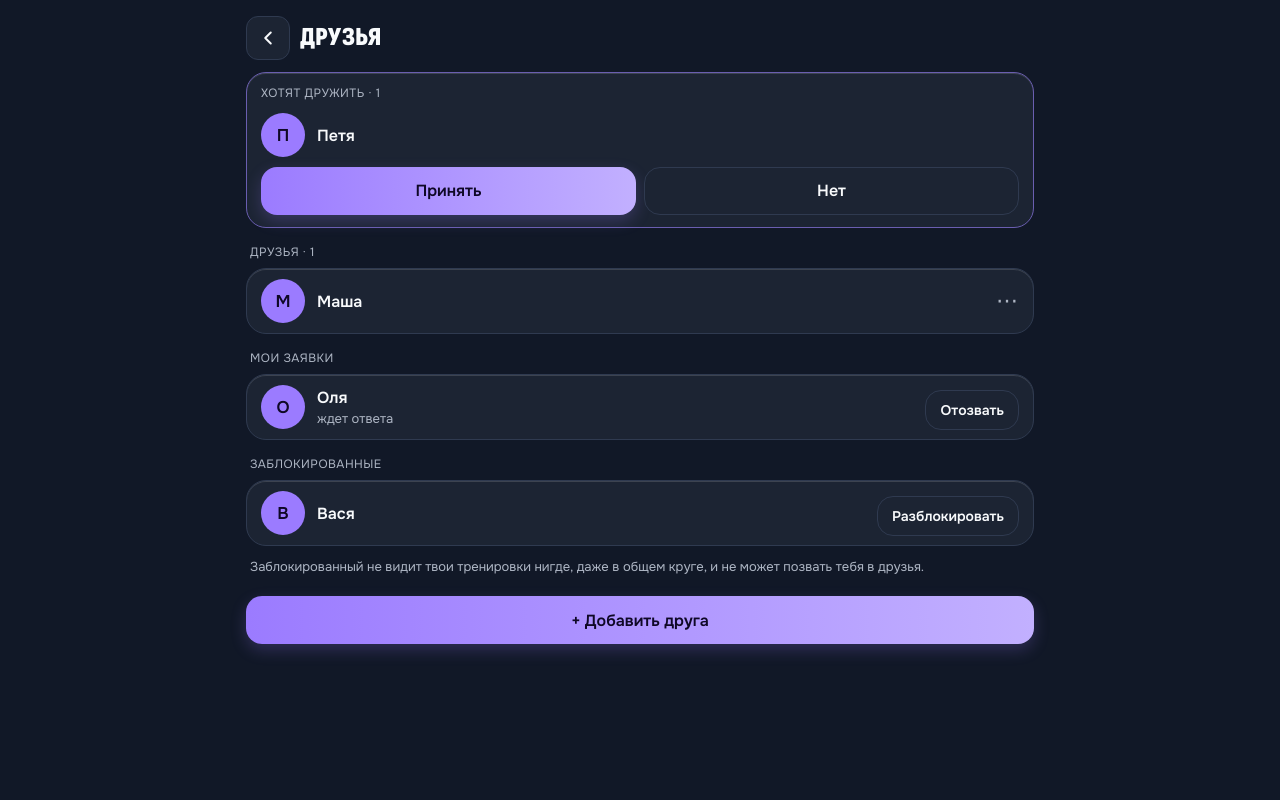
FriendsScreen — коды дружбы › ввод кода друга: проверить → «Маша зовет тебя в друзья» → Принять → «Теперь вы друзья»
Click the button "+ Добавить друга".
click(640, 620)  # box left=246, top=596, right=1034, bottom=644
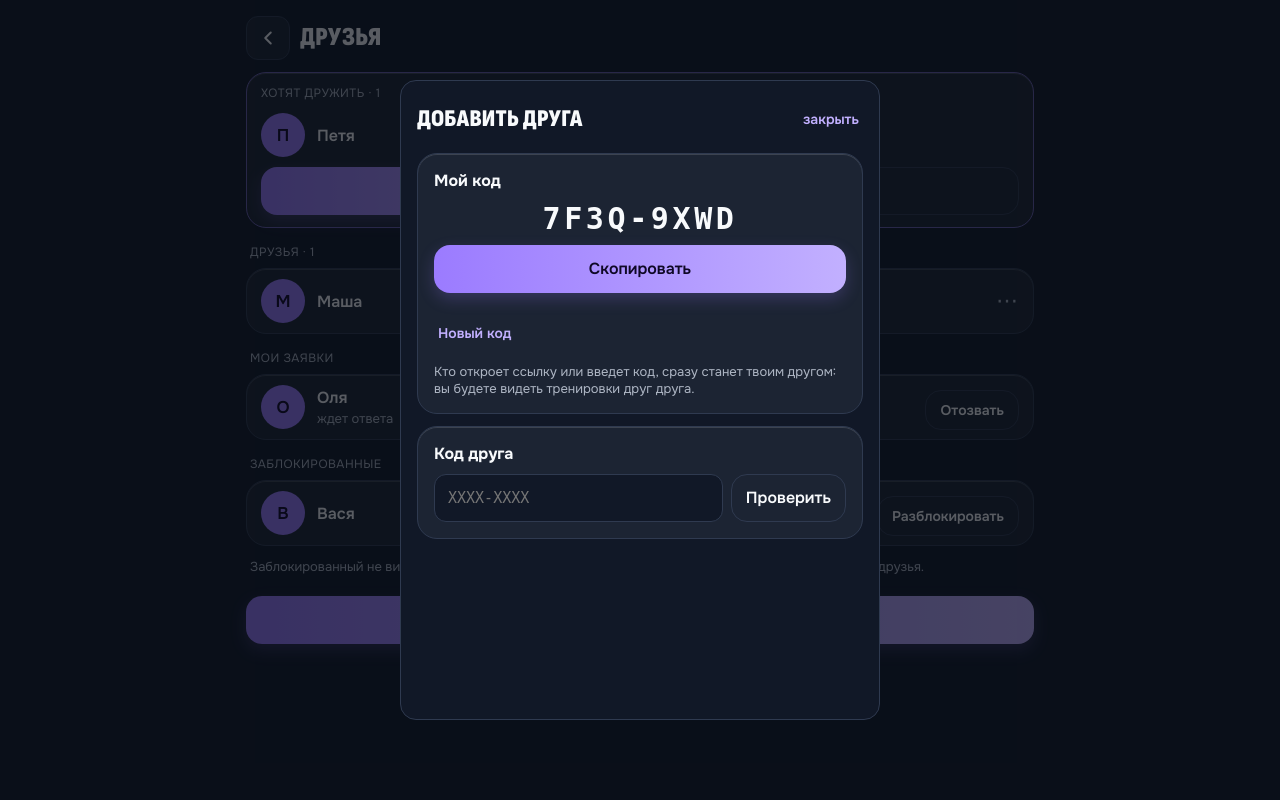
Type "k7m2-p9qx" into the field labelled "Код друга".
click(578, 498); type("k7m2-p9qx")  # box left=434, top=474, right=723, bottom=522
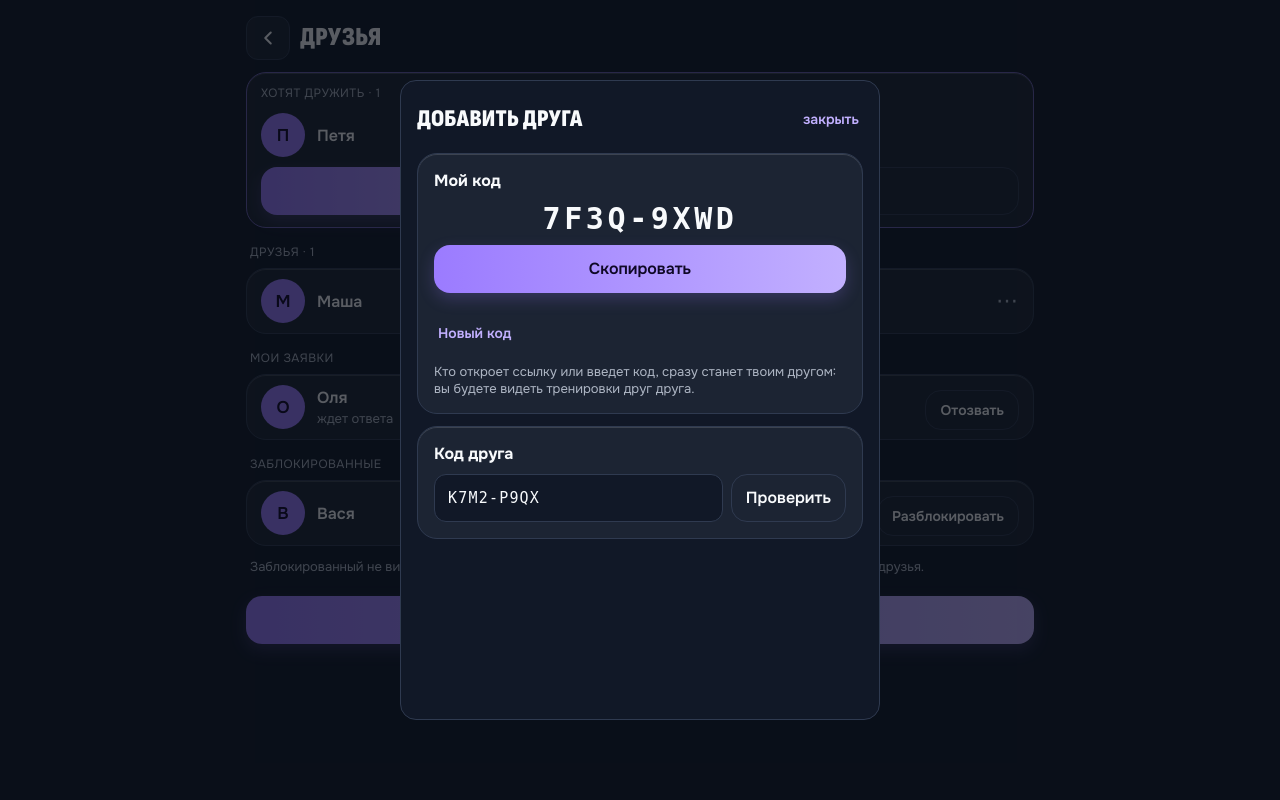
Click the button "Проверить".
click(788, 498)  # box left=731, top=474, right=846, bottom=522
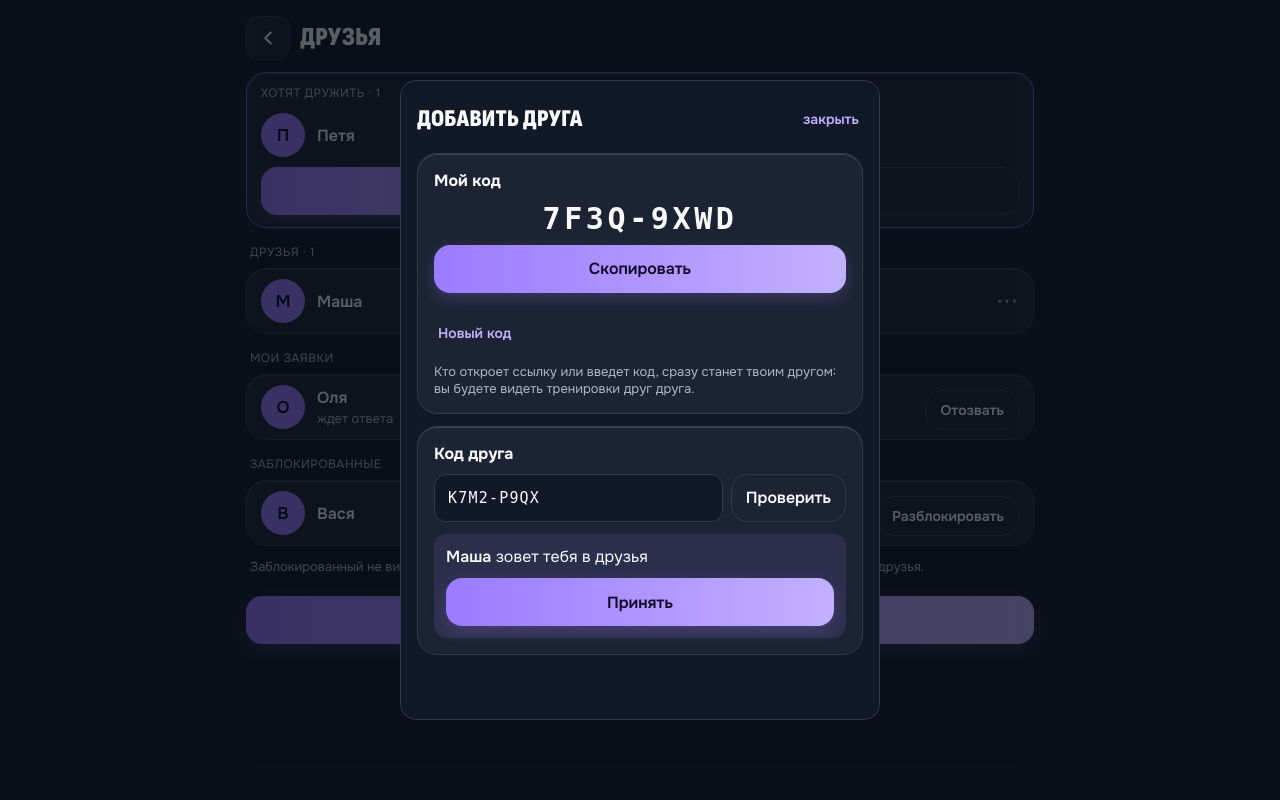
Now the text "Маша зовет тебя в друзья" is shown, box left=446, top=546, right=648, bottom=567
Click the button "Принять".
click(640, 602)  # box left=446, top=578, right=834, bottom=626
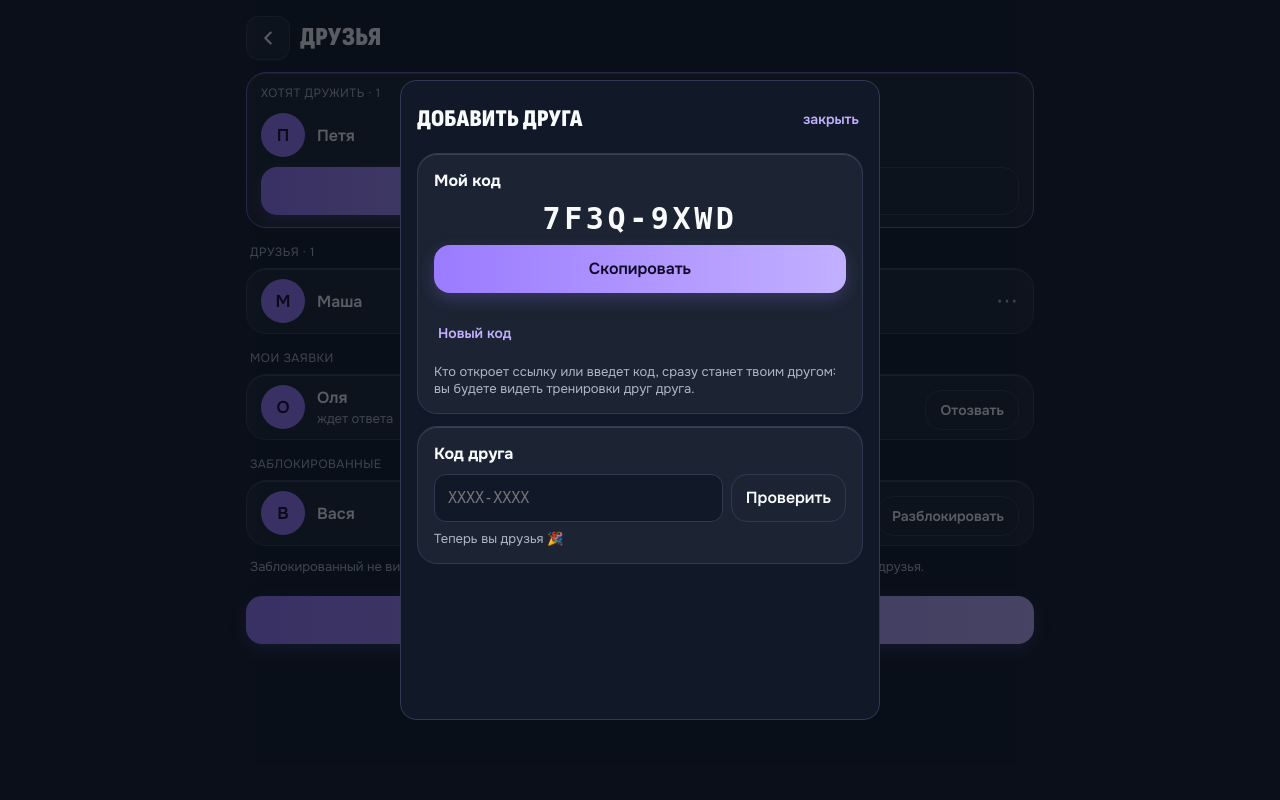
Now the text "Теперь вы друзья 🎉" is shown, box left=434, top=530, right=563, bottom=547
